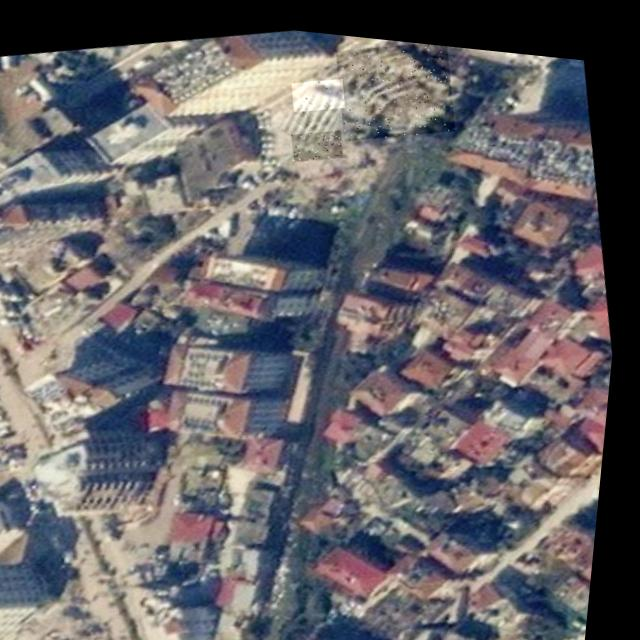Rubble: (329, 28, 463, 142), (290, 66, 349, 109), (292, 118, 347, 158), (44, 632, 128, 640)
